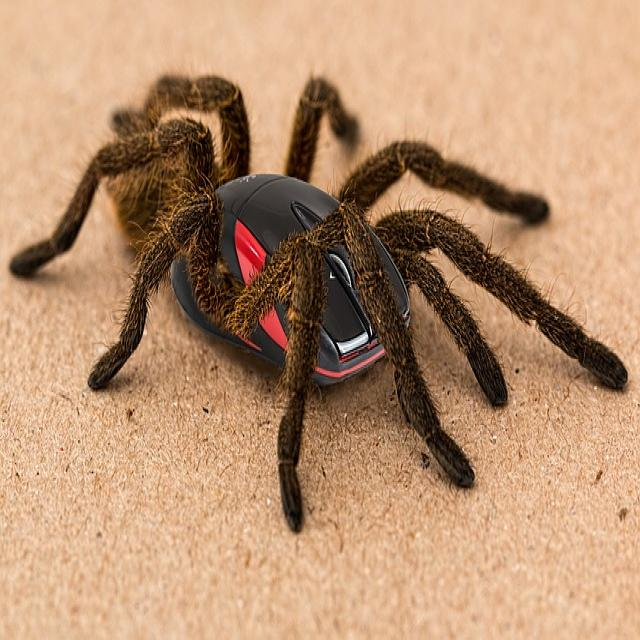spyder: (10, 77, 628, 529)
